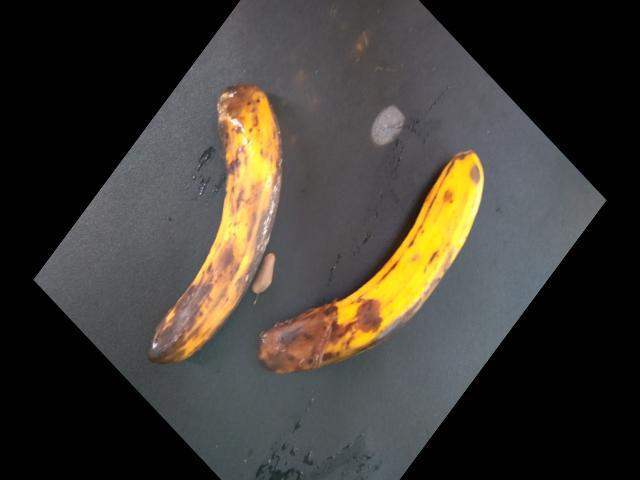rotten: (251, 150, 510, 378), (127, 60, 296, 368)
